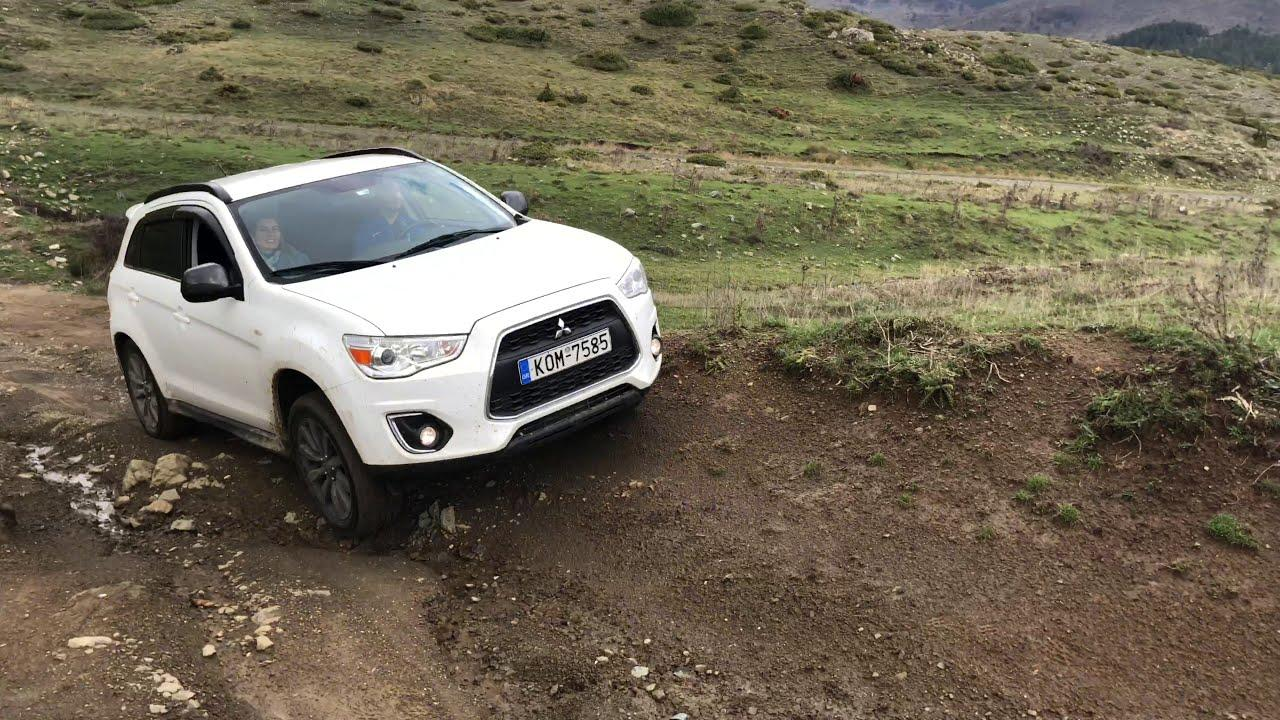Mitsubishi: (546, 310, 586, 348)
